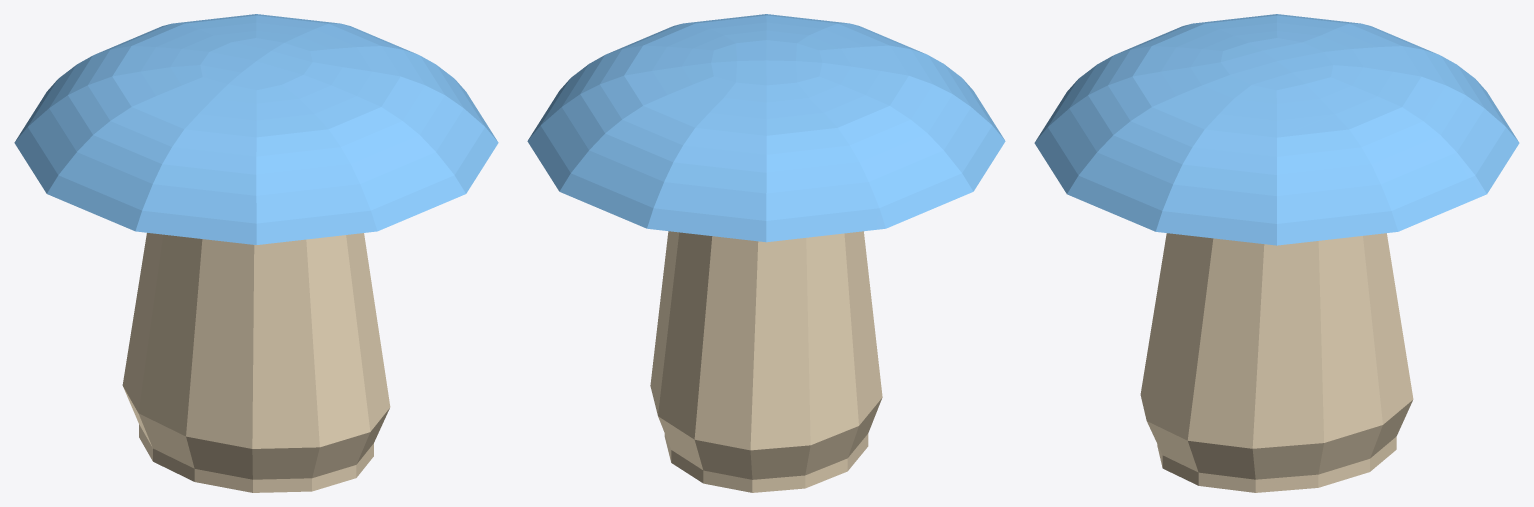
File: Cagomelo.fbx
3 renders of one model, left to right at view 1: azimuth 30°, elevation 25°; view 2: azimuth 150°, elevation 25°; view 3: azimuth 270°, elevation 25°, orthographic.
Visible parts, largest first — view 1: Cylinder; view 2: Cylinder; view 3: Cylinder.
Part boxes in pixels (box(x1,y1,x2,y2)): Cylinder: box(14, 14, 498, 492); Cylinder: box(527, 14, 1005, 492); Cylinder: box(1034, 14, 1519, 492).
Bounding box in the file's own units: 24292 × 21349 × 24292.
